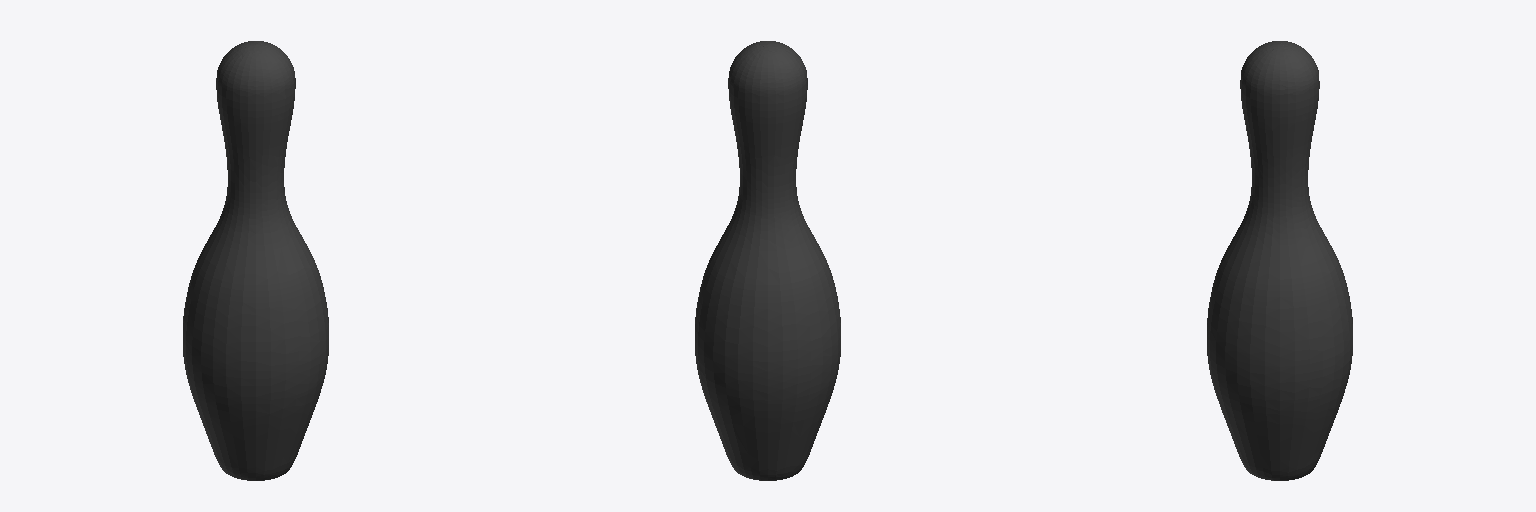
The model's file is bowling_pin.obj.
3 views of the same model, side by side, from view 1: azimuth 30°, elevation 25°; view 2: azimuth 150°, elevation 25°; view 3: azimuth 270°, elevation 25° (orthographic).
Parts seen in each view (by area): view 1: PBA_PIN; view 2: PBA_PIN; view 3: PBA_PIN.
Boxes of the visible parts, box(x1,y1,x2,y2) form: PBA_PIN: box(183, 41, 328, 480); PBA_PIN: box(695, 41, 840, 480); PBA_PIN: box(1207, 41, 1352, 480).
Bounding box in the file's own units: 4.74 × 15.01 × 4.72.